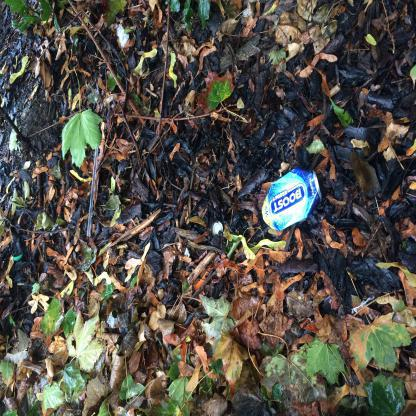metal: (262, 168, 323, 233), (212, 222, 226, 239)
